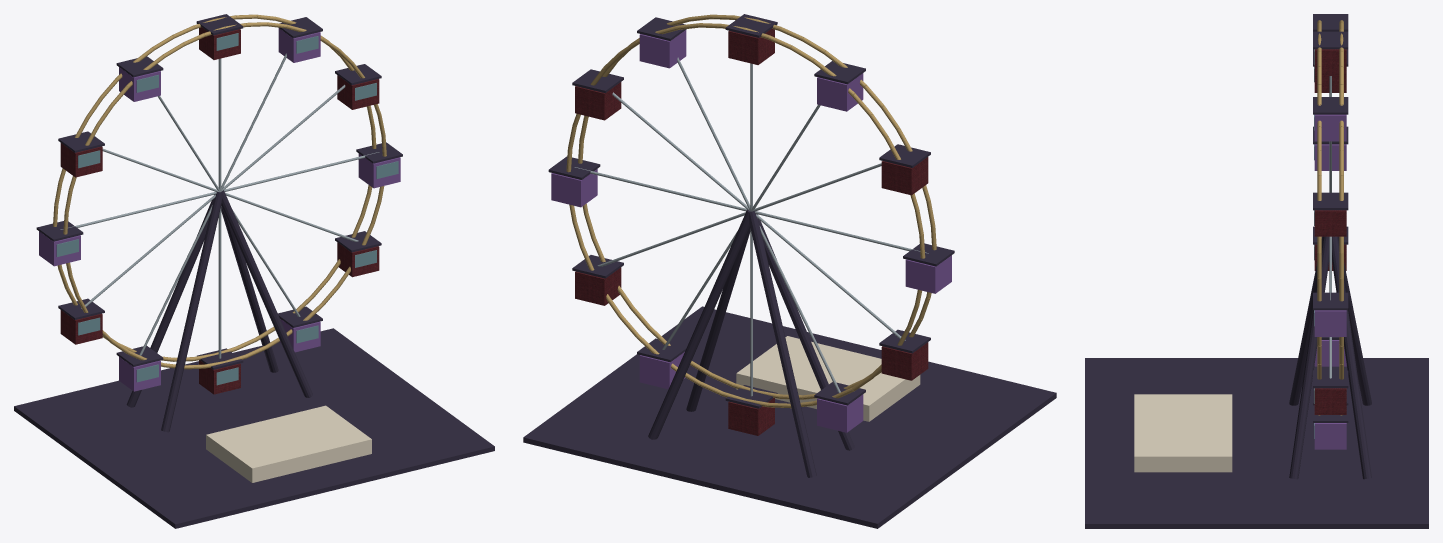
The model's file is ferris_platform.glb.
3 views of the same model, side by side, from view 1: azimuth 30°, elevation 25°; view 2: azimuth 150°, elevation 25°; view 3: azimuth 270°, elevation 25° (orthographic). The views are drawn at different scales.
Parts seen in each view (by area): view 1: Runtime_ferris_platform; view 2: Runtime_ferris_platform; view 3: Runtime_ferris_platform.
Part boxes in pixels (x1,y1,x2,y2): Runtime_ferris_platform: (14,14,494,528); Runtime_ferris_platform: (523,14,1056,528); Runtime_ferris_platform: (1085,14,1428,528).
Bounding box in the file's own units: 17.5 × 18.31 × 14.
7 materials, 1 textured.
